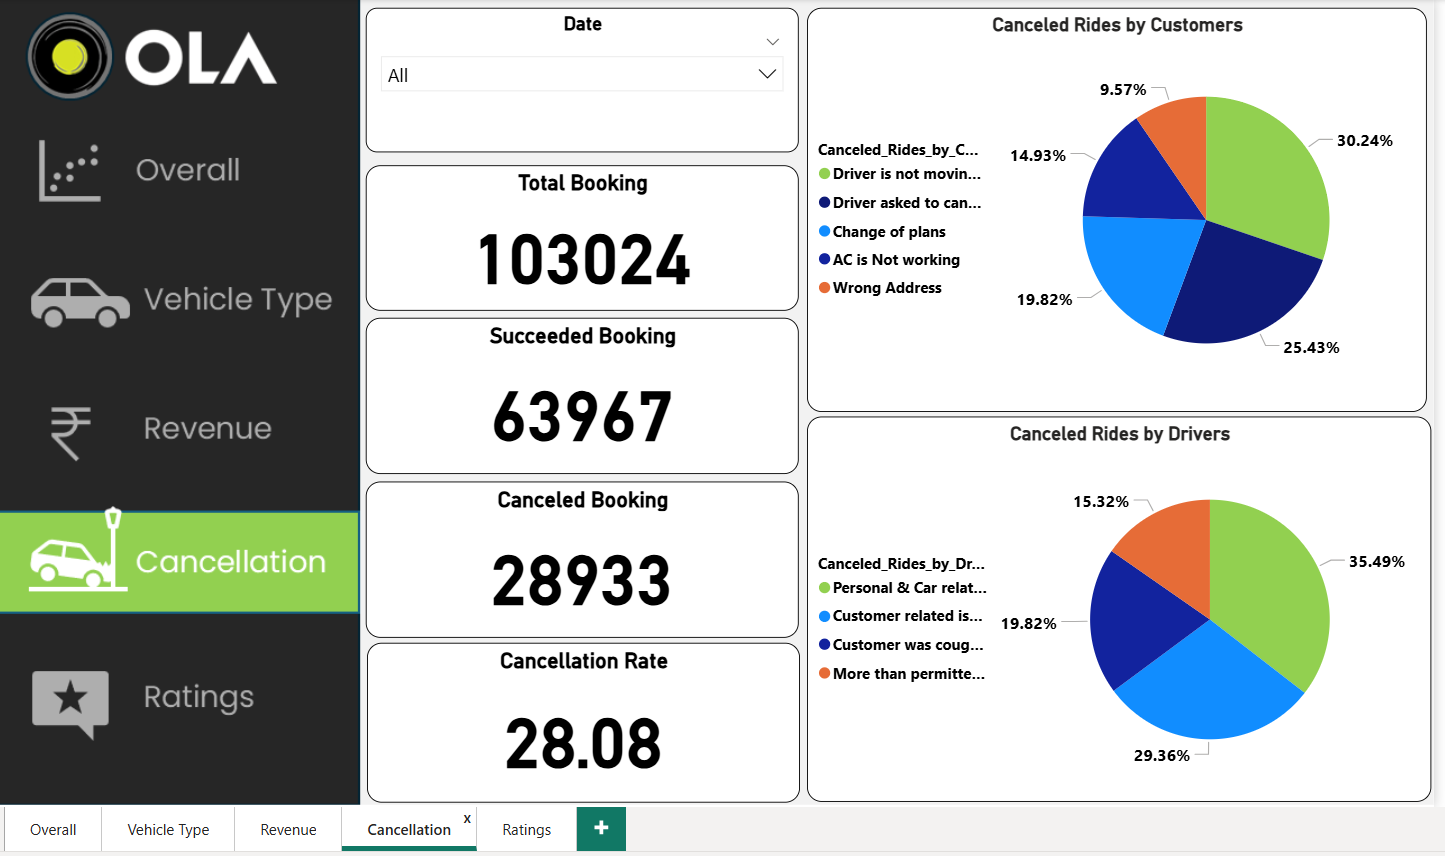

Layout of this report page (visuals, bound fields, positions):
{"tool":"powerbi","page":{"name":"Cancellation","canvas":[1280,720],"ordinal":3},"visuals":[{"type":"actionButton","box":[0,577.9,323.3,89.3],"z":0},{"type":"pieChart","title":"Canceled Rides by Customers","fields":{"Category":["Bookings.Canceled_Rides_by_Customer"],"Y":["CountNonNull(Bookings.Canceled_Rides_by_Customer)"]},"box":[721,7.6,551.7,359.8],"z":1000},{"type":"pieChart","title":"Canceled Rides by Drivers","fields":{"Category":["Bookings.Canceled_Rides_by_Driver"],"Y":["CountNonNull(Bookings.Canceled_Rides_by_Driver)"]},"box":[721,371.8,556.3,343.1],"z":2000},{"type":"slicer","title":"Date","fields":{"Values":["Bookings.Date.Variation.Date Hierarchy.Year","Bookings.Date.Variation.Date Hierarchy.Month","Bookings.Date.Variation.Date Hierarchy.Day"]},"box":[328,7.6,385.5,128.5],"z":3000},{"type":"card","title":"Total Booking","fields":{"Values":["CountNonNull(Bookings.Booking_ID)"]},"box":[328,148.1,385.5,130],"z":4000},{"type":"card","title":"Succeeded Booking","fields":{"Values":["CountNonNull(Bookings.Booking_ID)"]},"box":[328,284.2,385.5,139.1],"z":5000},{"type":"card","title":"Canceled Booking","fields":{"Values":["CountNonNull(Bookings.Booking_ID)"]},"box":[328,429.3,385.5,139.1],"z":6000},{"type":"card","title":"Cancellation Rate","fields":{"Values":["Bookings.CanceledPercentage"]},"box":[329.5,572.9,385.5,142.1],"z":7000}]}

Visuals, with their boxes on the page's 1280x720 design canvas (x1, y1, x2, y2). These are canvas units, not pixel positions in the 1445x856 screenshot, which may show the page scaled, cropped or inside an application window:
actionButton: detection(0, 578, 323, 667)
"Canceled Rides by Customers" pieChart: detection(721, 8, 1273, 367)
"Canceled Rides by Drivers" pieChart: detection(721, 372, 1277, 715)
"Date" slicer: detection(328, 8, 714, 136)
"Total Booking" card: detection(328, 148, 714, 278)
"Succeeded Booking" card: detection(328, 284, 714, 423)
"Canceled Booking" card: detection(328, 429, 714, 568)
"Cancellation Rate" card: detection(330, 573, 715, 715)
